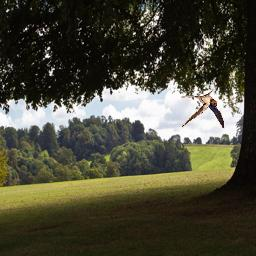Swallow: (182, 88, 225, 128)
